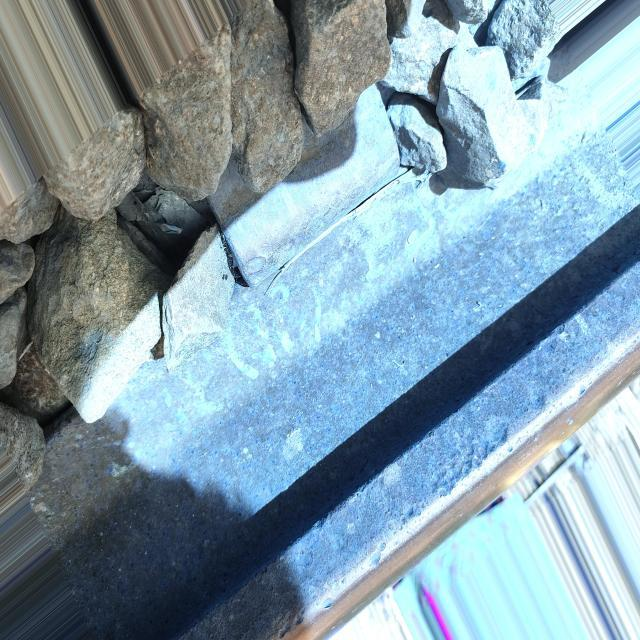Missing Fastener: (213, 86, 410, 297)
